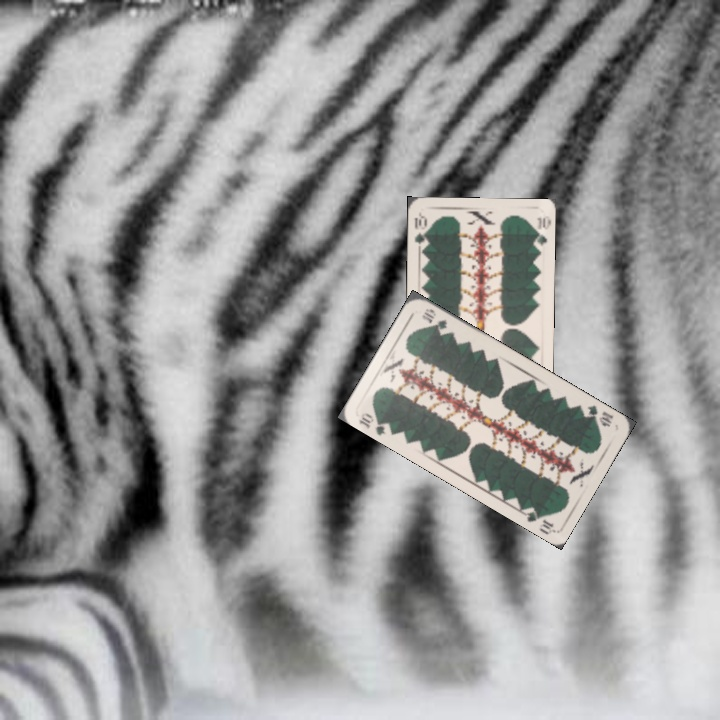G10: (354, 409, 394, 437), (583, 401, 616, 429), (411, 212, 430, 252)
